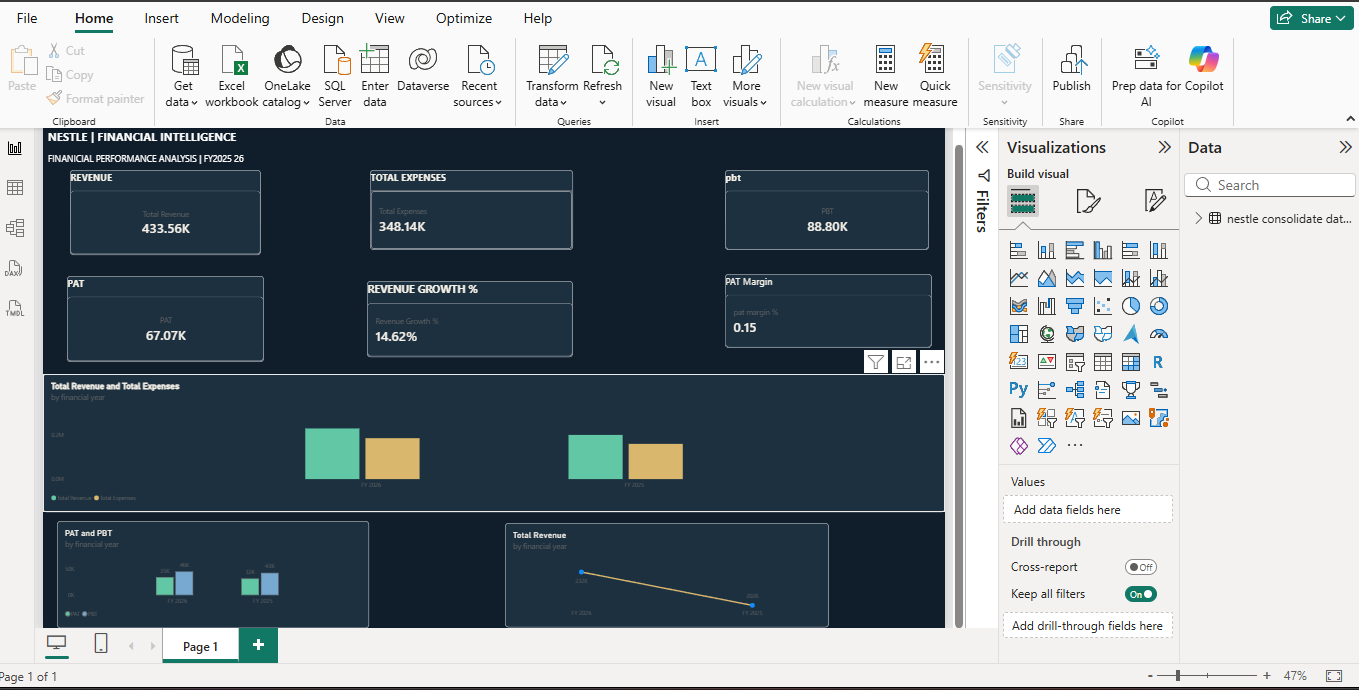

What the dashboard file says about the page in this screenshot:
{"tool":"powerbi","page":{"name":"Page 1","canvas":[1920,1080],"ordinal":0},"visuals":[{"type":"cardVisual","title":"REVENUE","fields":{"Data":["nestle consolidate data 2.Total Revenue"]},"box":[58.3,105.6,406.4,180.9],"z":0},{"type":"lineChart","fields":{"Category":["nestle consolidate data 2.financial year"],"Y":["nestle consolidate data 2.Total Revenue"]},"box":[983.3,858.3,688.9,222.2],"z":1000},{"type":"cardVisual","title":"TOTAL EXPENSES","fields":{"Data":["nestle consolidate data 2.Total Expenses"]},"box":[695.7,106.4,431.9,170.2],"z":2000},{"type":"cardVisual","title":"PAT","fields":{"Data":["nestle consolidate data 2.PAT"]},"box":[51.1,331.9,419.1,183],"z":3000},{"type":"cardVisual","title":"pbt","fields":{"Data":["nestle consolidate data 2.PBT"]},"box":[1451.1,106.4,434,170.2],"z":4000},{"type":"cardVisual","title":"REVENUE GROWTH %","fields":{"Data":["nestle consolidate data 2.Revenue Growth %"]},"box":[689.4,342.6,438.3,161.7],"z":5000},{"type":"cardVisual","title":"PAT Margin","fields":{"Data":["nestle consolidate data 2.pat margin %"]},"box":[1451.1,327.7,440.4,157.4],"z":6000},{"type":"clusteredColumnChart","fields":{"Category":["nestle consolidate data 2.financial year"],"Y":["nestle consolidate data 2.Total Revenue","nestle consolidate data 2.Total Expenses"]},"box":[0,540.4,1919.1,293.6],"z":7000},{"type":"clusteredColumnChart","fields":{"Category":["nestle consolidate data 2.financial year"],"Y":["nestle consolidate data 2.PAT","nestle consolidate data 2.PBT"]},"box":[30.6,852.8,663.9,227.8],"z":8000},{"type":"textbox","box":[10.6,19.1,755.3,108.5],"z":9000}]}

Visuals, with their boxes on the page's 1920x1080 design canvas (x1, y1, x2, y2). These are canvas units, not pixel positions in the 1359x690 screenshot, which may show the page scaled, cropped or inside an application window:
"REVENUE" cardVisual: {"x1": 58, "y1": 106, "x2": 465, "y2": 286}
lineChart - nestle consolidate data 2.financial year x nestle consolidate data 2.Total Revenue: {"x1": 983, "y1": 858, "x2": 1672, "y2": 1080}
"TOTAL EXPENSES" cardVisual: {"x1": 696, "y1": 106, "x2": 1128, "y2": 277}
"PAT" cardVisual: {"x1": 51, "y1": 332, "x2": 470, "y2": 515}
"pbt" cardVisual: {"x1": 1451, "y1": 106, "x2": 1885, "y2": 277}
"REVENUE GROWTH %" cardVisual: {"x1": 689, "y1": 343, "x2": 1128, "y2": 504}
"PAT Margin" cardVisual: {"x1": 1451, "y1": 328, "x2": 1892, "y2": 485}
clusteredColumnChart - nestle consolidate data 2.financial year x nestle consolidate data 2.Total Revenue: {"x1": 0, "y1": 540, "x2": 1919, "y2": 834}
clusteredColumnChart - nestle consolidate data 2.financial year x nestle consolidate data 2.PAT: {"x1": 31, "y1": 853, "x2": 694, "y2": 1081}
textbox: {"x1": 11, "y1": 19, "x2": 766, "y2": 128}
